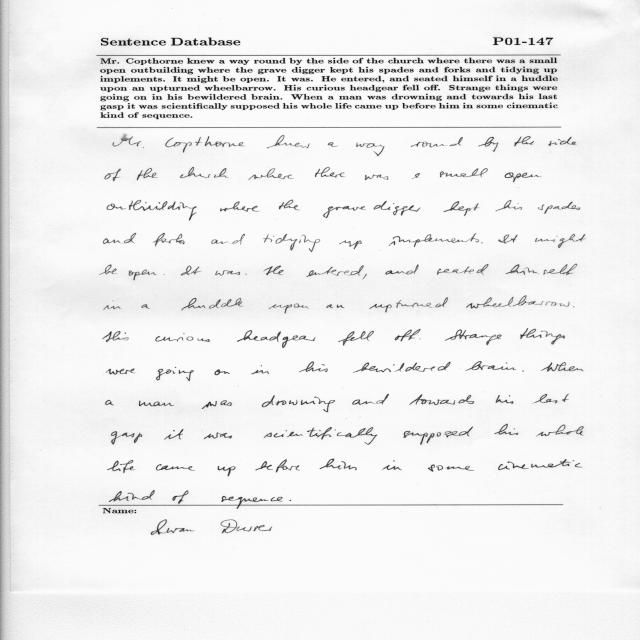word: (109, 490, 291, 505), (264, 427, 377, 445), (107, 200, 197, 220), (109, 496, 291, 505), (237, 330, 315, 348), (165, 136, 245, 153), (466, 296, 570, 309), (389, 233, 479, 247), (403, 427, 473, 445), (262, 395, 335, 412), (369, 298, 448, 313), (353, 362, 450, 373), (263, 234, 320, 252), (499, 459, 583, 470), (445, 330, 502, 345), (506, 264, 577, 275), (520, 328, 565, 345), (182, 298, 243, 310), (409, 394, 474, 405), (535, 234, 586, 248), (374, 201, 421, 216), (306, 265, 364, 277), (267, 135, 309, 149), (255, 460, 300, 473), (536, 425, 584, 437), (437, 264, 489, 275), (109, 490, 155, 502), (249, 168, 294, 180), (338, 331, 374, 346), (180, 167, 229, 178), (156, 367, 194, 381), (444, 201, 479, 216), (411, 137, 463, 147), (323, 206, 366, 218), (465, 361, 516, 371), (538, 202, 580, 214), (155, 333, 210, 342), (153, 233, 185, 247), (220, 201, 260, 212), (440, 169, 488, 178), (541, 362, 583, 372), (112, 431, 142, 445), (352, 394, 389, 405), (320, 459, 357, 470), (113, 135, 144, 148), (269, 304, 309, 314), (211, 234, 245, 245), (356, 143, 384, 156), (108, 460, 136, 473), (104, 233, 137, 244), (505, 173, 541, 183), (385, 265, 419, 275), (315, 167, 345, 178), (533, 394, 569, 403), (428, 465, 474, 472), (299, 362, 328, 373), (395, 329, 421, 341), (129, 270, 157, 281), (479, 137, 499, 152), (495, 200, 522, 211), (103, 331, 129, 342), (494, 424, 519, 435), (156, 464, 195, 471), (202, 400, 232, 409), (548, 137, 577, 146), (137, 168, 158, 180), (164, 429, 184, 440), (279, 200, 300, 210), (181, 266, 202, 276), (139, 401, 174, 407), (514, 136, 534, 146), (382, 460, 402, 470), (340, 241, 362, 250), (99, 264, 117, 275), (105, 169, 121, 181), (499, 234, 518, 244), (264, 266, 284, 275), (218, 466, 236, 476), (107, 369, 136, 375), (204, 433, 232, 439), (104, 301, 122, 310), (252, 366, 270, 375), (496, 395, 513, 404), (215, 270, 240, 276), (365, 175, 388, 180), (214, 370, 230, 376), (326, 305, 345, 309), (328, 142, 339, 147), (411, 173, 420, 179), (141, 304, 150, 309), (106, 400, 114, 405), (362, 274, 367, 280), (481, 243, 483, 244), (245, 274, 247, 275), (573, 306, 575, 307), (522, 371, 524, 372), (290, 500, 292, 501), (164, 274, 165, 275), (420, 339, 421, 339)
